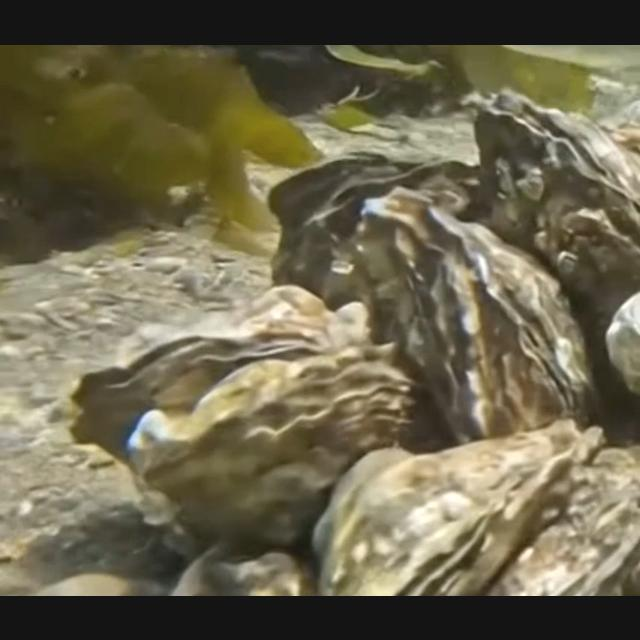Oyster-Closed: (362, 184, 594, 442), (124, 340, 412, 538), (488, 446, 640, 596)
Oyster-Open: (311, 416, 605, 596), (68, 326, 326, 488), (461, 87, 640, 318), (264, 148, 482, 310)
